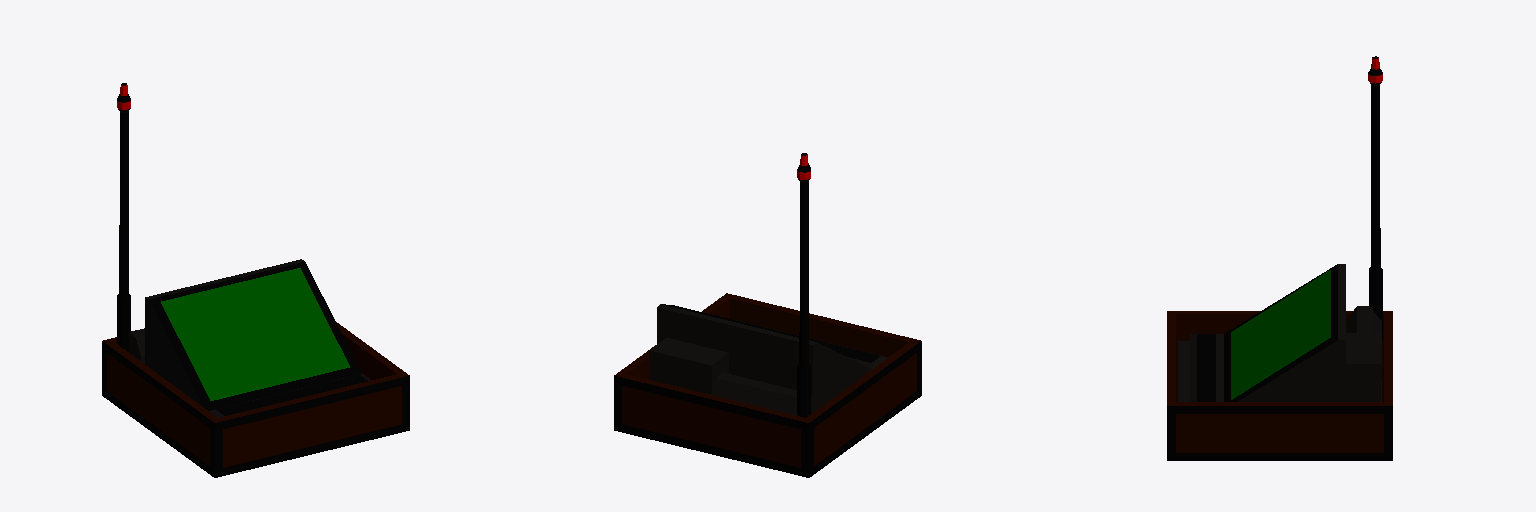
File: air_strike.obj
3 views of the same model, side by side, from view 1: azimuth 30°, elevation 25°; view 2: azimuth 150°, elevation 25°; view 3: azimuth 270°, elevation 25° (orthographic).
Parts seen in each view (by area): view 1: Cube.001; view 2: Cube.001; view 3: Cube.001.
Boxes of the visible parts, box(x1,y1,x2,y2) form: Cube.001: box(102, 83, 409, 477); Cube.001: box(614, 153, 921, 477); Cube.001: box(1167, 56, 1392, 460).
Bounding box in the file's own units: 0.4922 × 0.7578 × 0.4922.